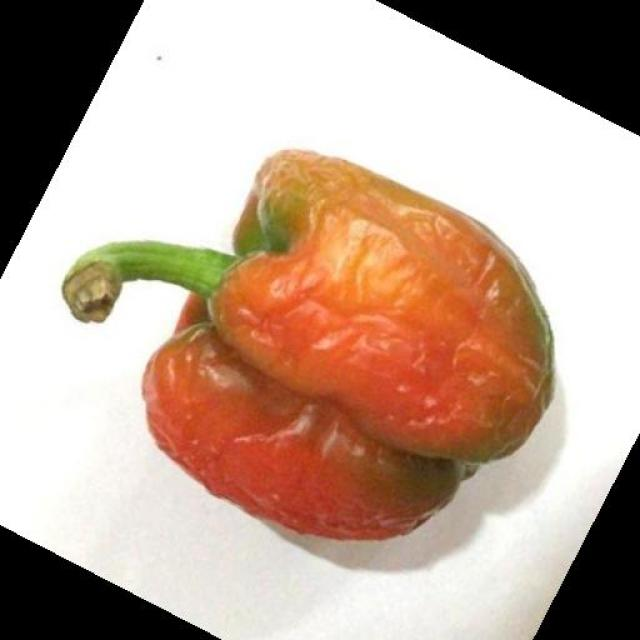Stale_Capsicum: (64, 108, 527, 560)
